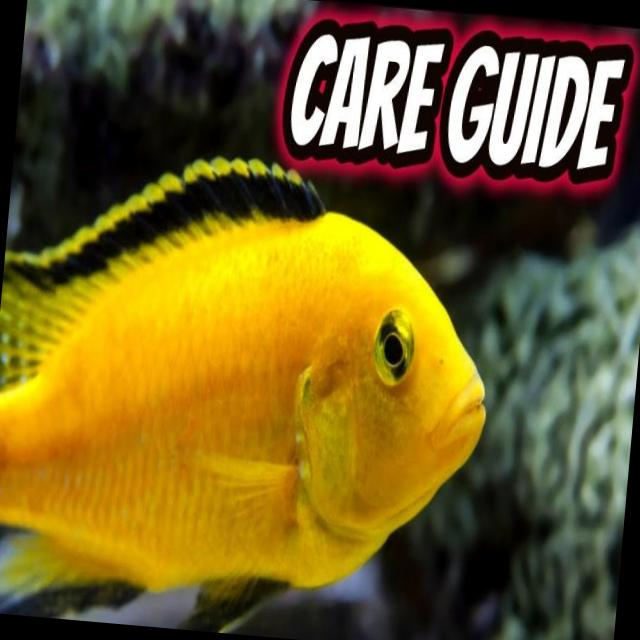YellowCichlid: (0, 127, 516, 630)
